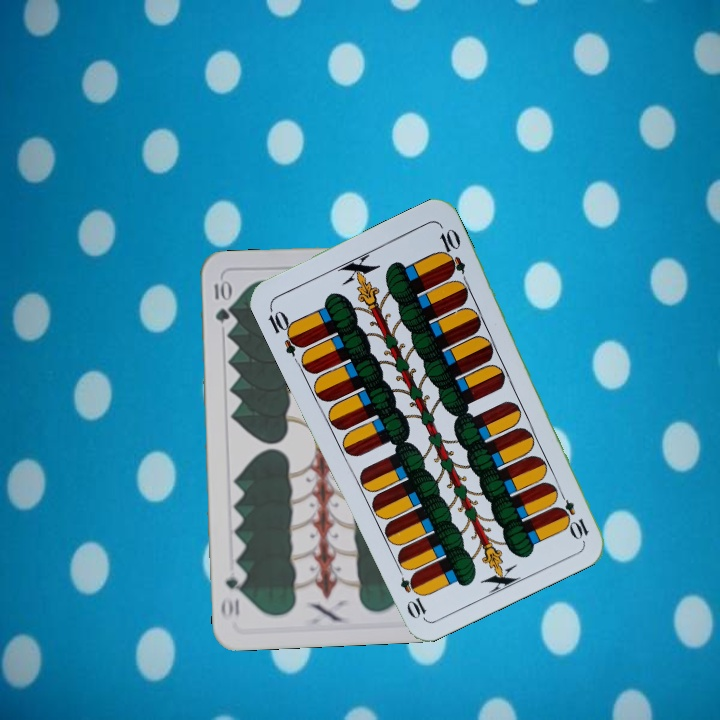E10: (264, 303, 306, 358), (553, 486, 592, 542)
G10: (210, 276, 232, 325)
